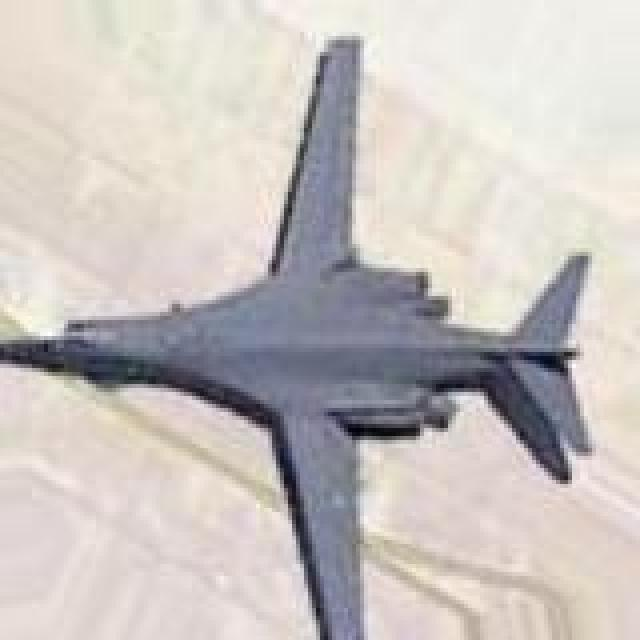B-1_TopDown: (0, 28, 596, 636)
